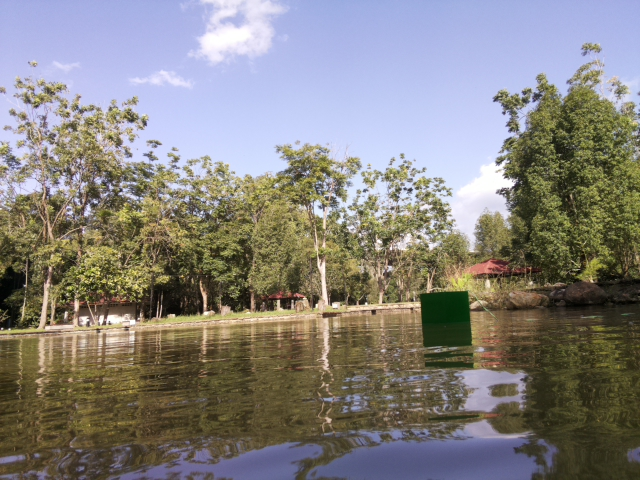obstacle: (419, 291, 471, 329)
